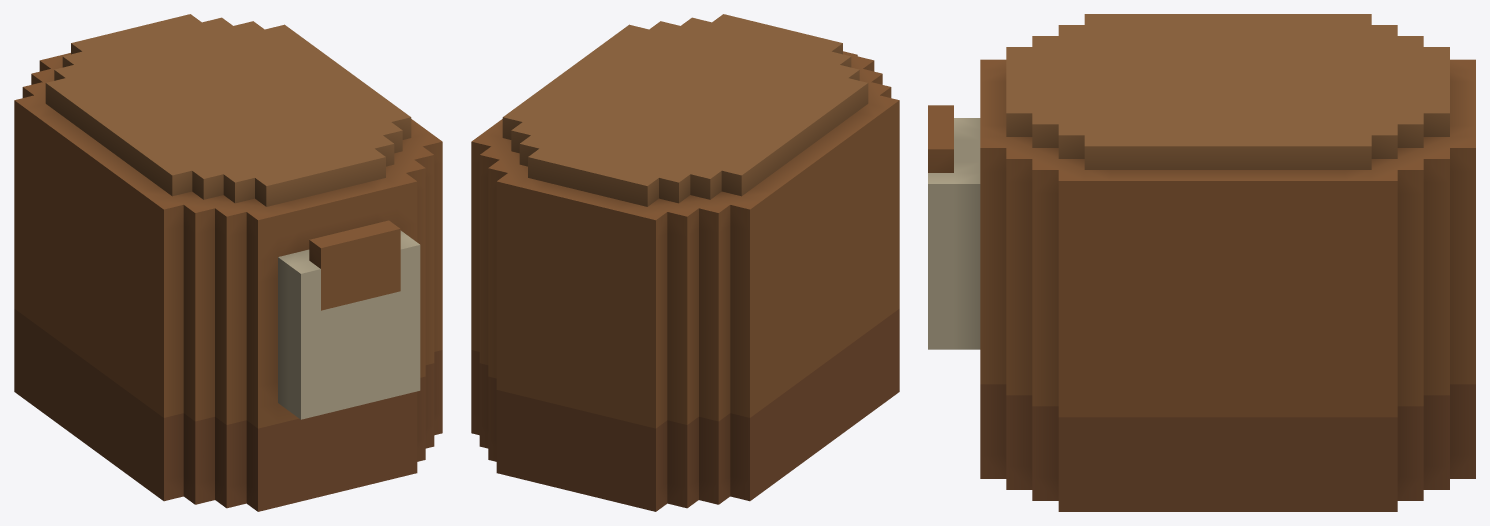
File: body.glb
The picture shows the model from 3 angles, left to right: view 1: azimuth 30°, elevation 25°; view 2: azimuth 150°, elevation 25°; view 3: azimuth 270°, elevation 25°; orthographic projection. The views are drawn at different scales.
Parts seen in each view (by area): view 1: VoxelVisual; view 2: VoxelVisual; view 3: VoxelVisual.
Part boxes in pixels (x1=…): VoxelVisual: x1=14, y1=14, x2=442, y2=511; VoxelVisual: x1=471, y1=14, x2=899, y2=511; VoxelVisual: x1=928, y1=14, x2=1475, y2=511.
Size of what is drawn, in the model's own units: 0.875 by 0.9375 by 1.31.
